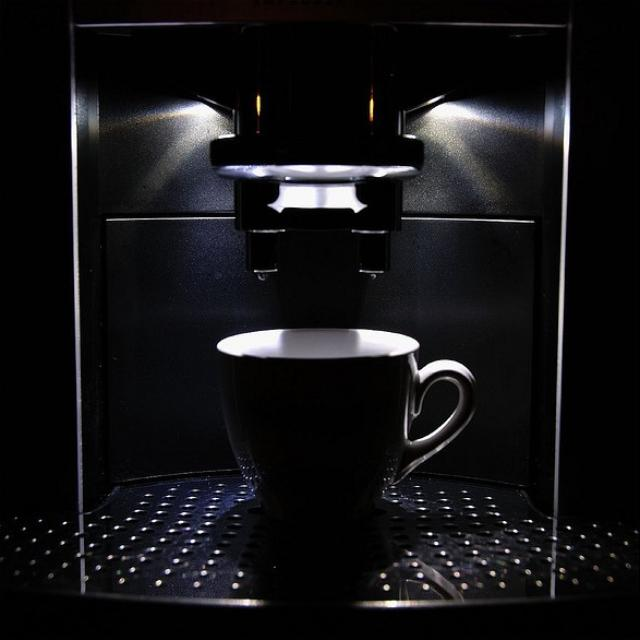Cup: (194, 286, 479, 564)
